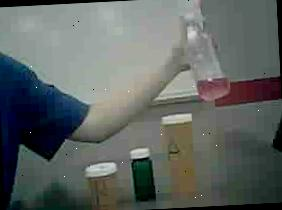Bottle A: (154, 108, 212, 203)
Bottle B: (75, 158, 123, 210)
Bottle C: (126, 146, 160, 208)
hazard: (172, 0, 250, 101)
